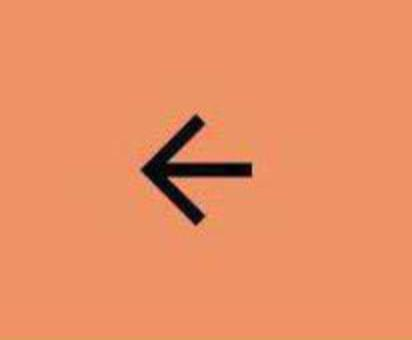ImgButton: (1, 1, 411, 339)
